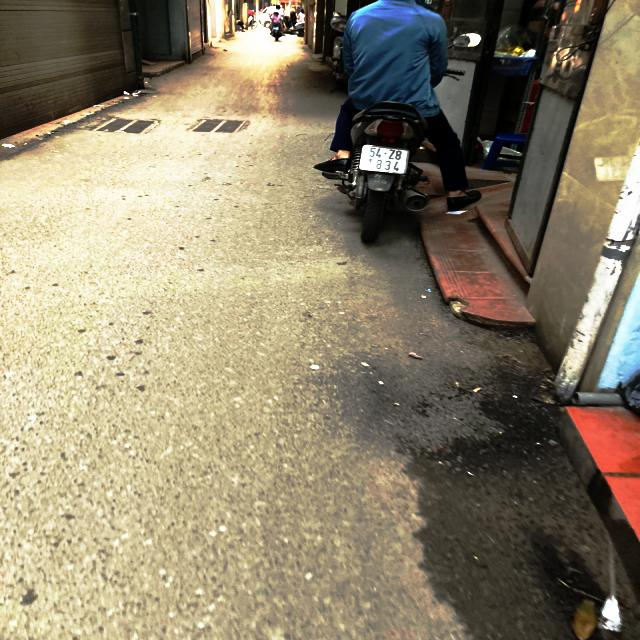license_plate: (359, 145, 412, 175)
